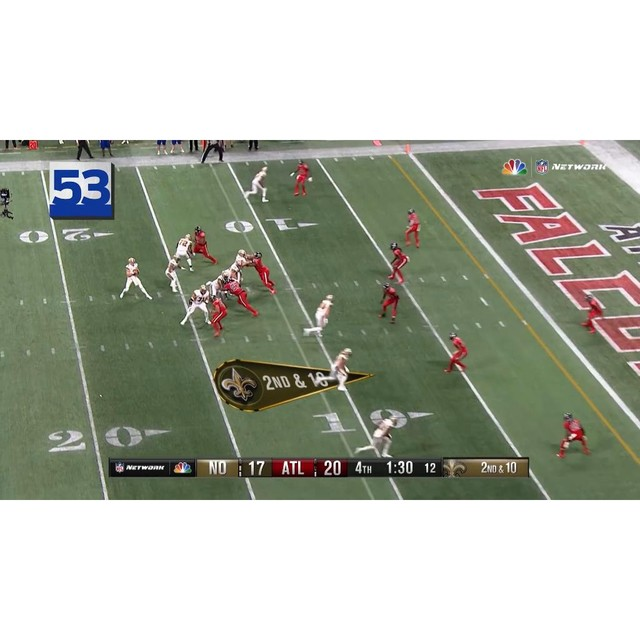american-football-player: (356, 413, 398, 458), (556, 413, 592, 458), (316, 347, 352, 390), (118, 256, 152, 300), (180, 283, 212, 327), (303, 294, 335, 337), (226, 277, 260, 317), (579, 291, 606, 334), (250, 251, 276, 295), (376, 280, 400, 325), (443, 332, 468, 373), (387, 242, 410, 284), (192, 227, 217, 265), (243, 165, 268, 202), (210, 293, 228, 339), (173, 234, 194, 272), (290, 159, 311, 197), (164, 254, 183, 292), (208, 268, 230, 300), (404, 208, 421, 248), (231, 249, 251, 282)
referee: (200, 140, 225, 164)
